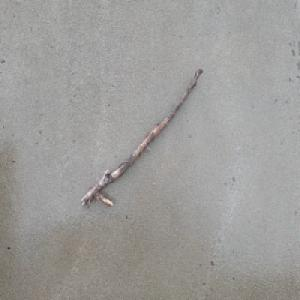Wood: (80, 65, 204, 208)
